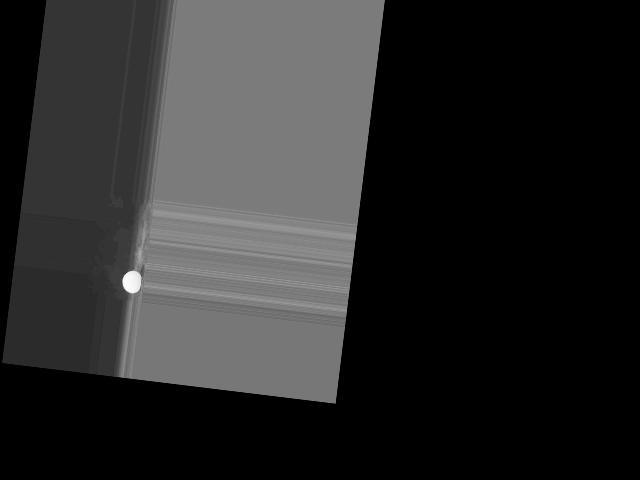egg: (121, 269, 142, 293)
